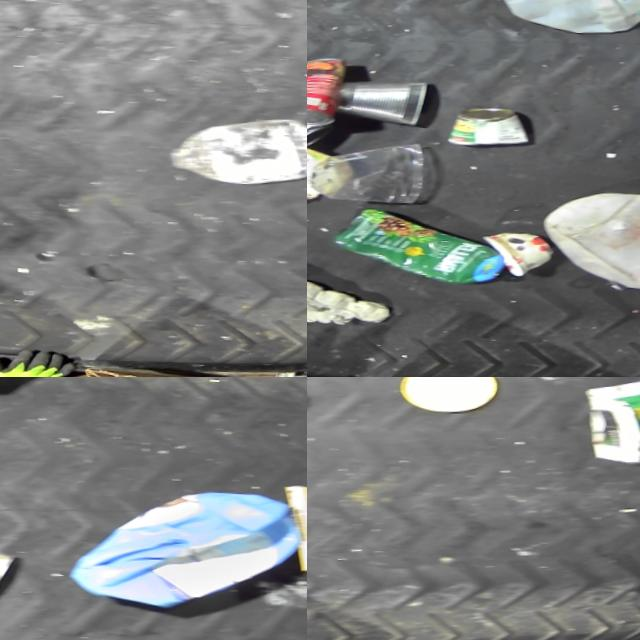can: (329, 78, 431, 131), (443, 104, 534, 153), (307, 53, 347, 132)
milk_jug: (534, 186, 640, 303), (488, 0, 640, 44)
non_white_jug: (64, 484, 303, 624)
plastic_bottle: (160, 110, 307, 194)
